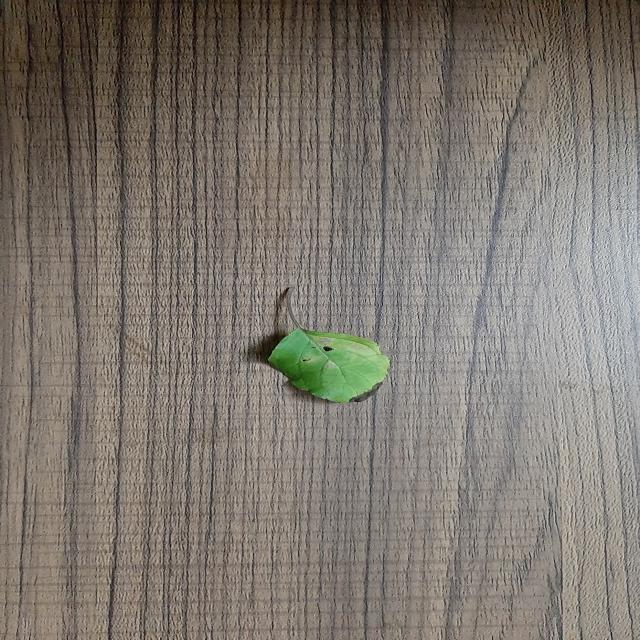defectedtulsi: (309, 335, 374, 366)
tulsi: (268, 326, 390, 402)
